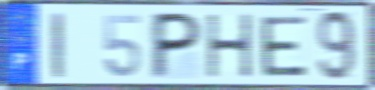5: (102, 12, 142, 79)
9: (315, 8, 359, 85)
E: (258, 14, 309, 79)
H: (204, 12, 255, 80)
I: (49, 10, 67, 81)
P: (148, 11, 205, 82)
